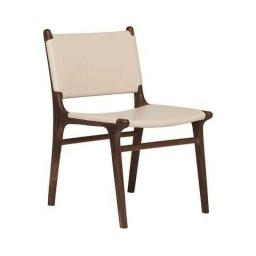Chair: (42, 29, 212, 229)
